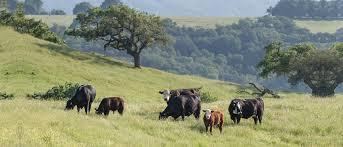cow: (158, 94, 202, 122), (228, 98, 265, 127), (63, 85, 96, 116), (93, 96, 126, 118), (159, 88, 204, 102), (203, 108, 224, 136)
